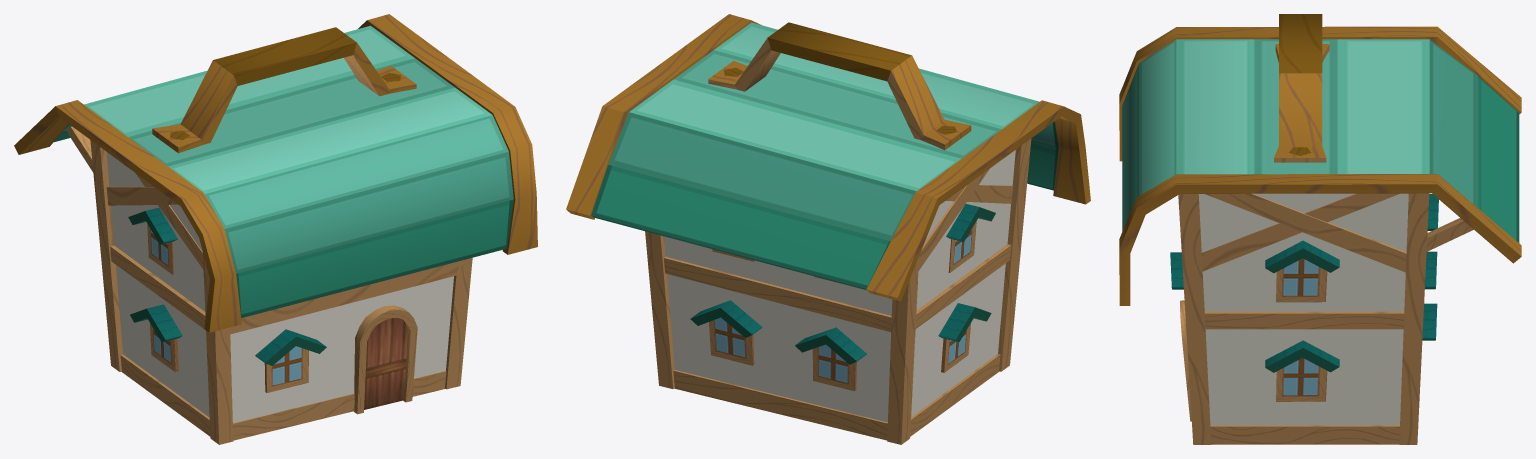
Rendered from building_variety_lv2.FBX.
3 views of the same model, side by side, from view 1: azimuth 30°, elevation 25°; view 2: azimuth 150°, elevation 25°; view 3: azimuth 270°, elevation 25° (orthographic). The views are drawn at different scales.
Parts seen in each view (by area): view 1: building_variety_main_lv2, building_variety_lv2; view 2: building_variety_main_lv2, building_variety_lv2; view 3: building_variety_main_lv2, building_variety_lv2.
Part boxes in pixels (left/top/right/bottom): building_variety_main_lv2: left=54, top=25, right=513, bottom=423; building_variety_lv2: left=14, top=14, right=537, bottom=444; building_variety_main_lv2: left=591, top=22, right=1058, bottom=422; building_variety_lv2: left=566, top=14, right=1090, bottom=444; building_variety_main_lv2: left=1122, top=39, right=1519, bottom=425; building_variety_lv2: left=1119, top=14, right=1521, bottom=444.
Size of the model in its own units: 357 by 337 by 359.
